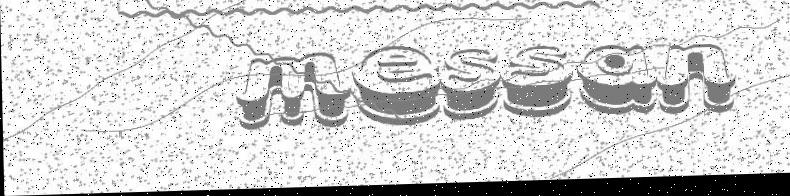a: (576, 48, 656, 119)
e: (352, 48, 439, 128)
m: (236, 54, 351, 131)
n: (657, 48, 735, 117)
s: (502, 49, 573, 121), (438, 52, 501, 124)
